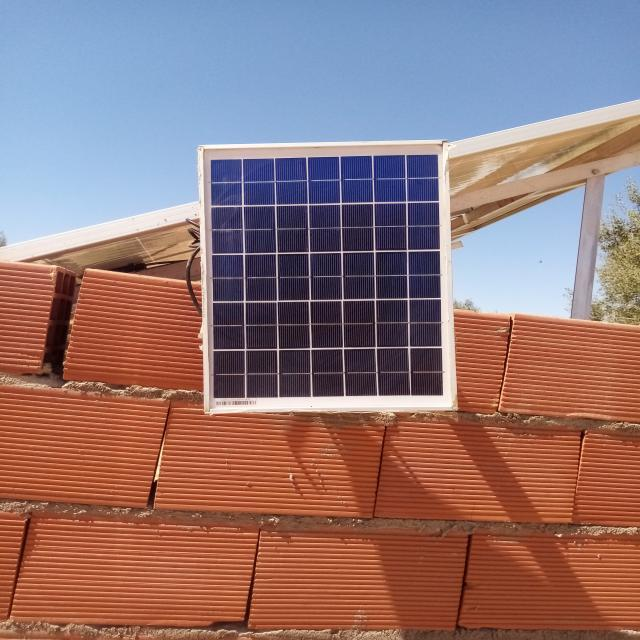no faulty: (200, 142, 455, 412)
